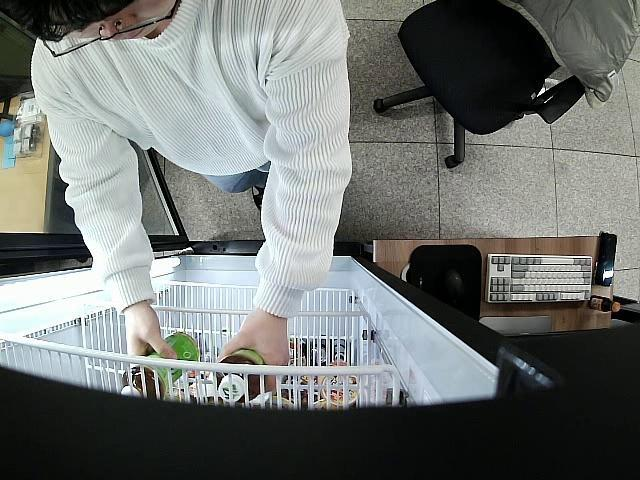19_17cha: (119, 331, 200, 400), (216, 349, 266, 403)
